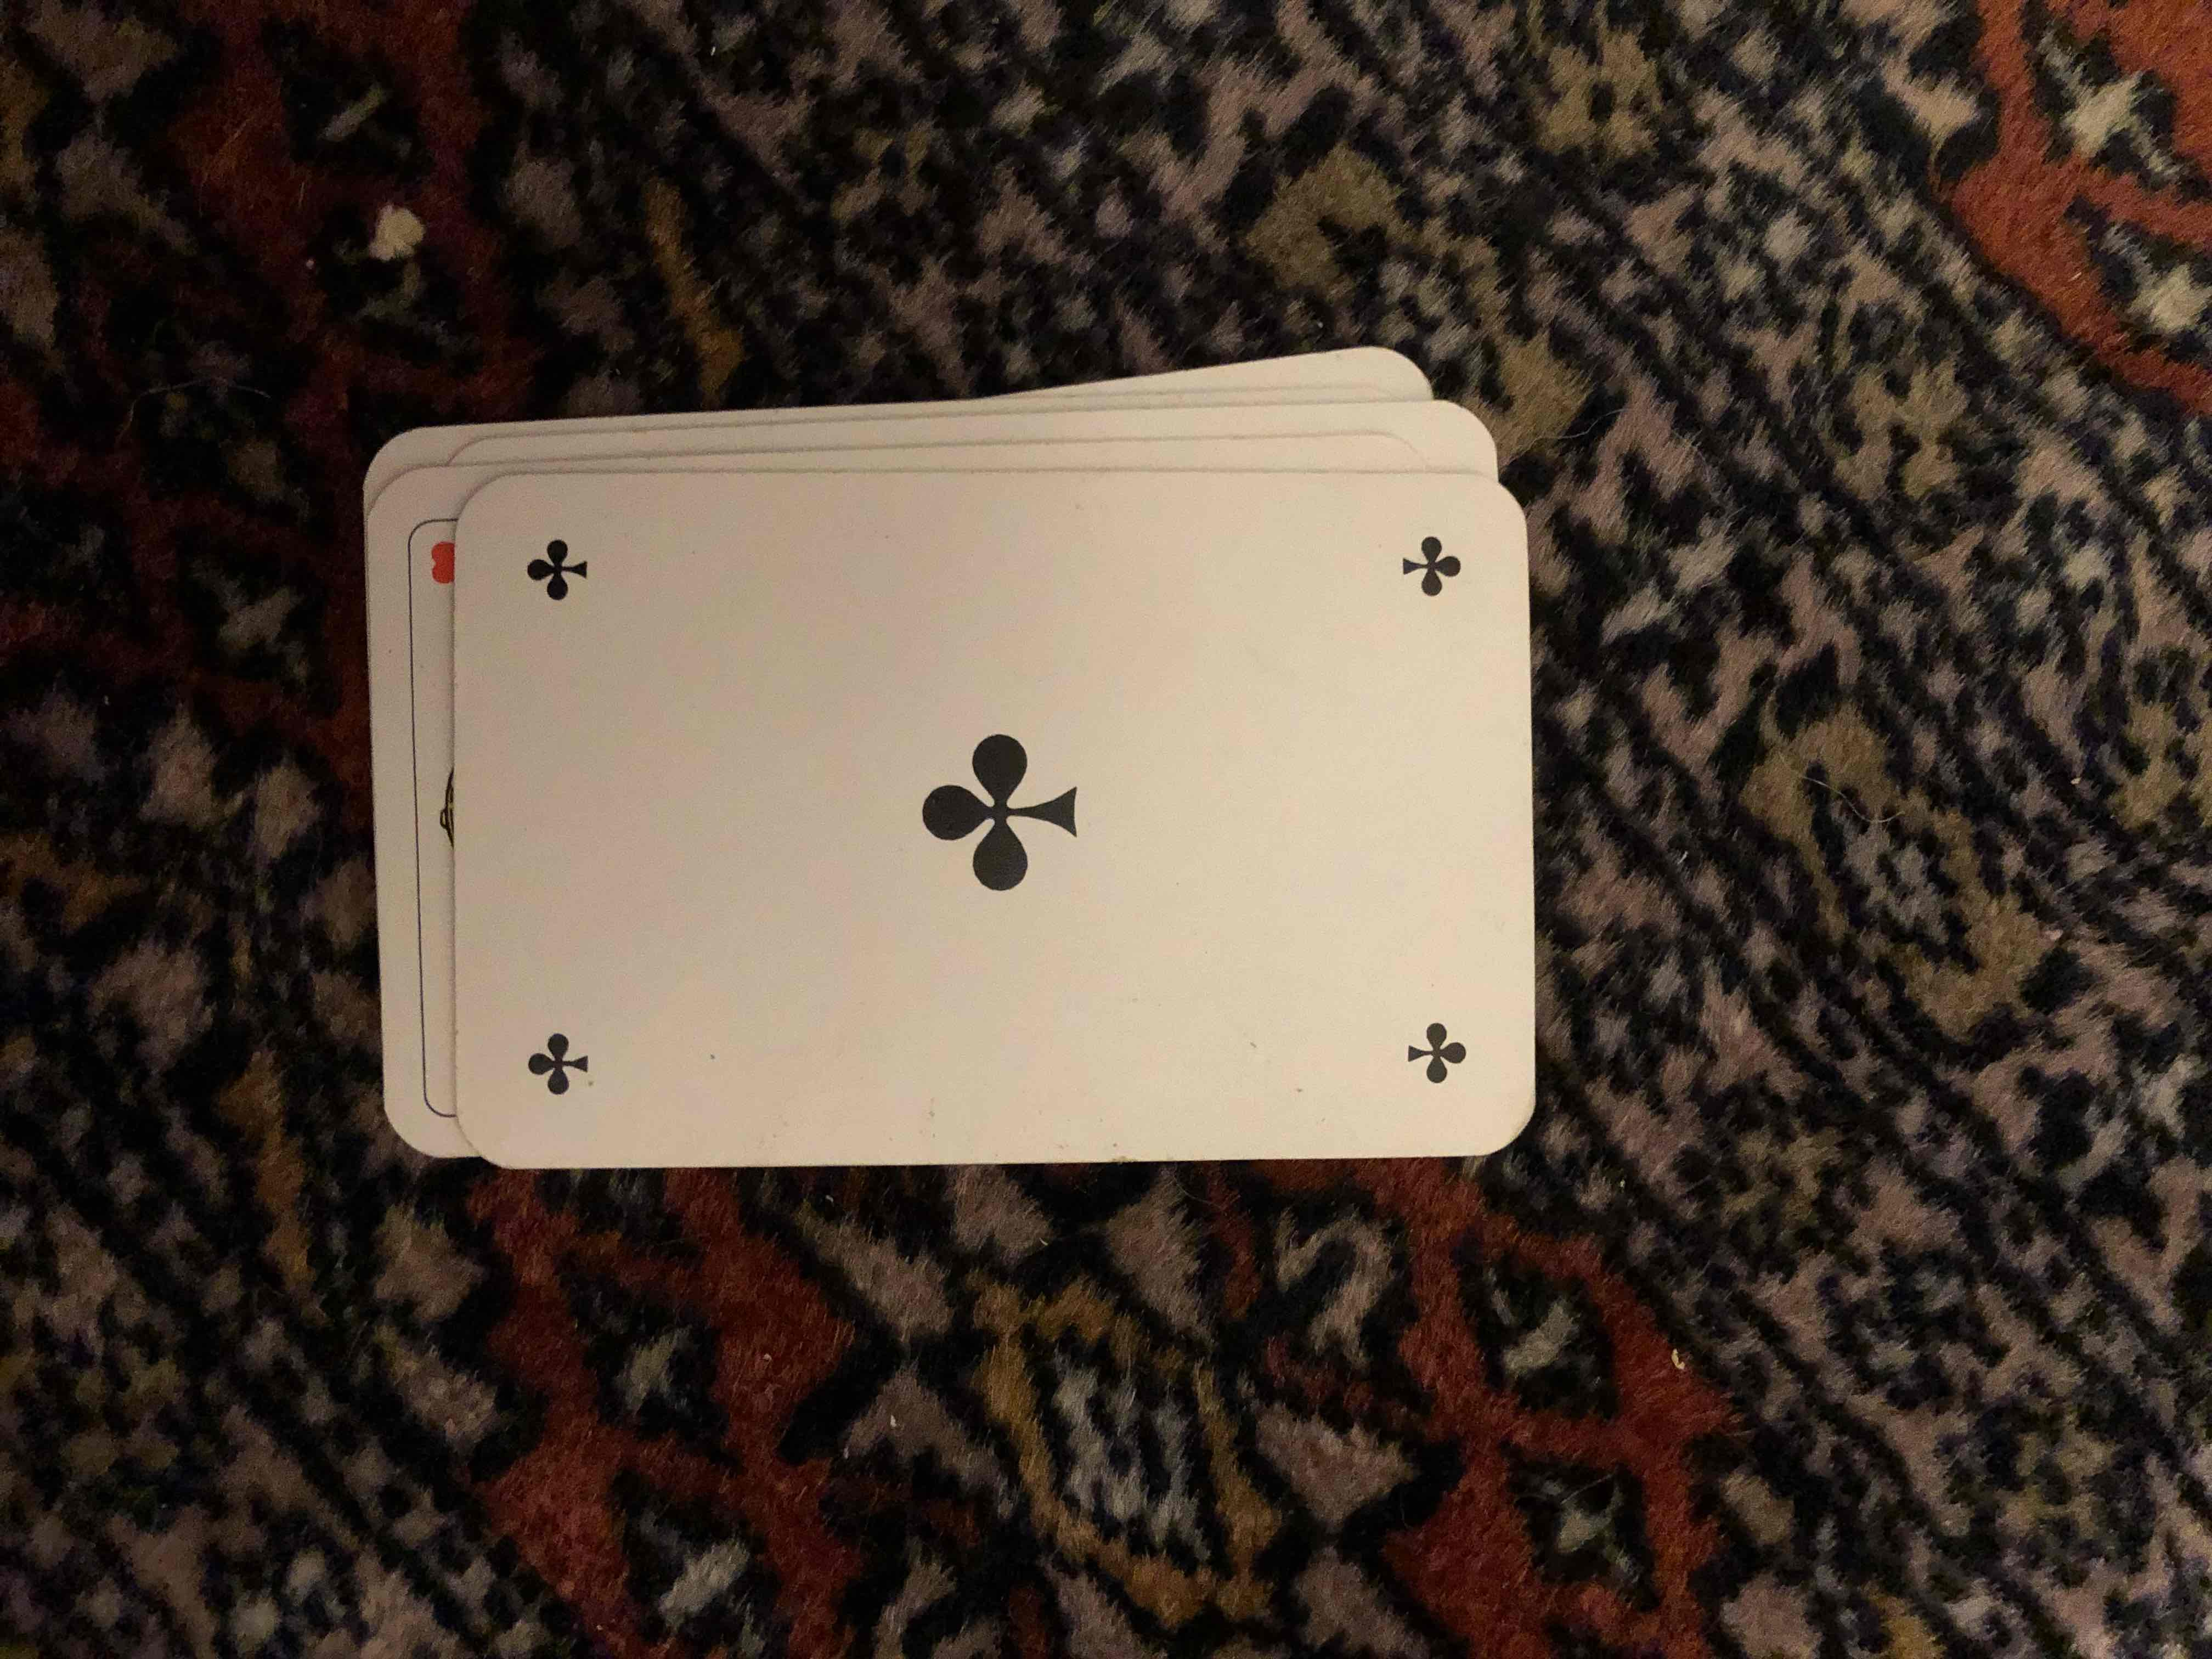clubsAce: (470, 423, 1529, 1154)
